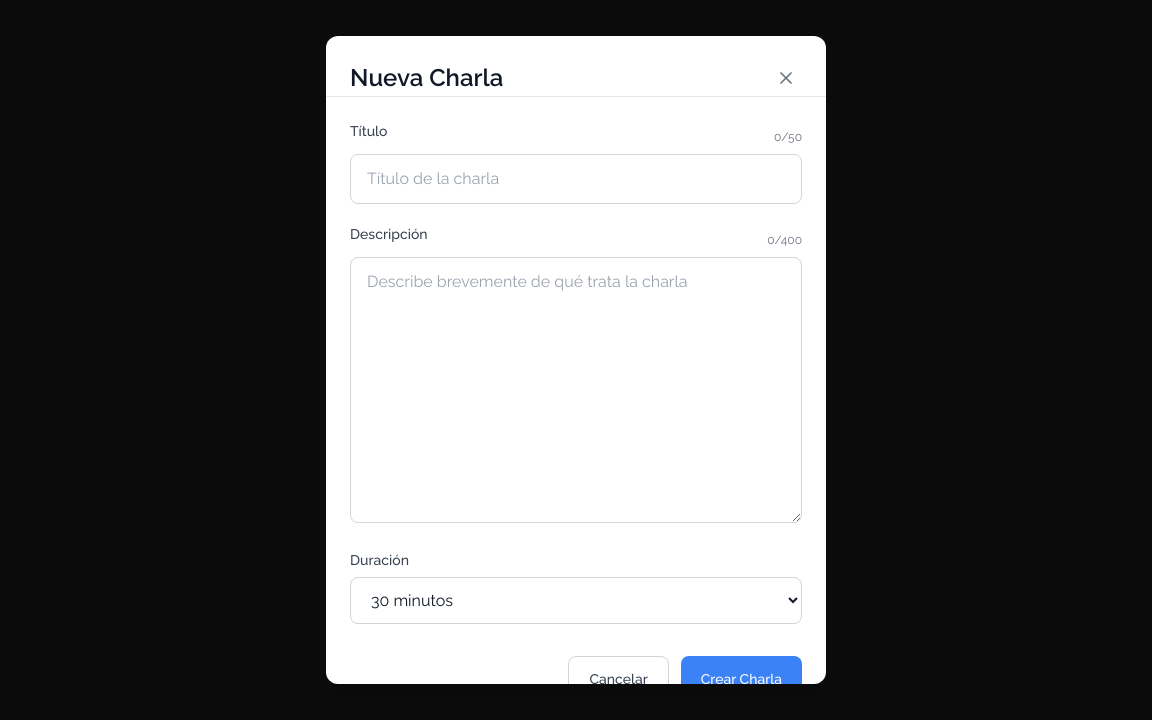
Test: CreateTalkModal › debería mostrar error cuando el envío falla
Type "Test Title" into the field labelled "Título".
click(576, 179); type("Test Title")  # box [350,154,802,204]
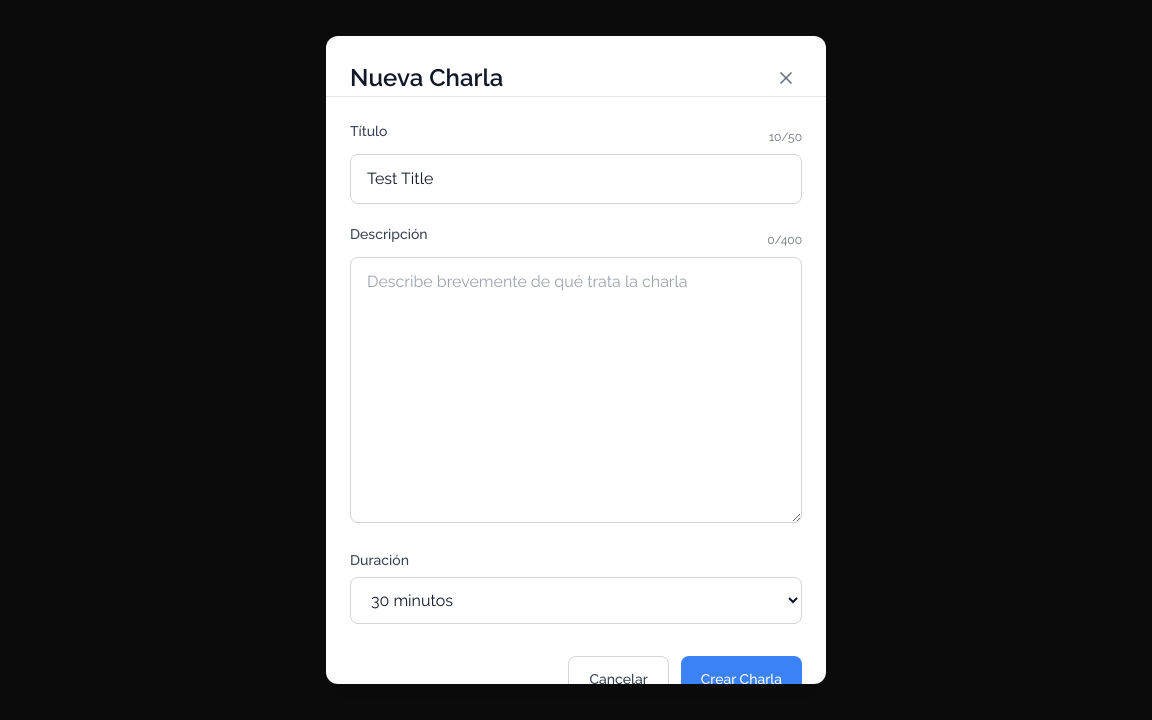
Type "Test Description" into the text box labelled "Descripción".
click(576, 390); type("Test Description")  # box [350,257,802,523]
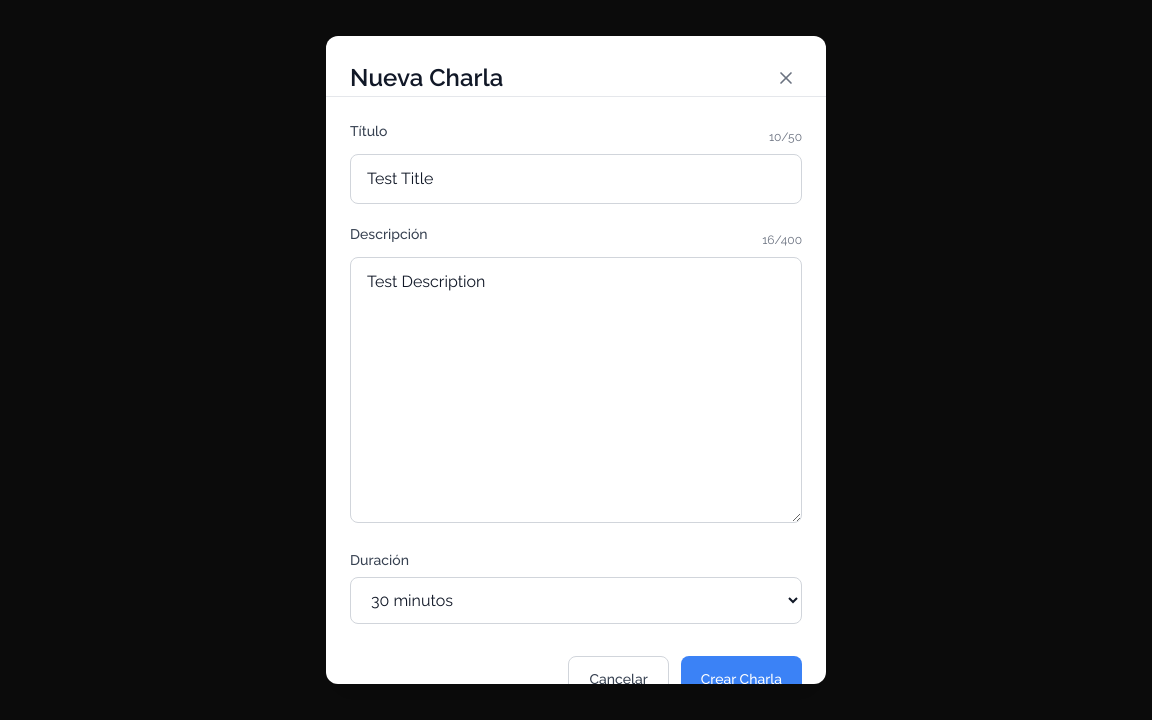
Click the button "Crear Charla".
click(741, 680)  # box [681,656,802,703]
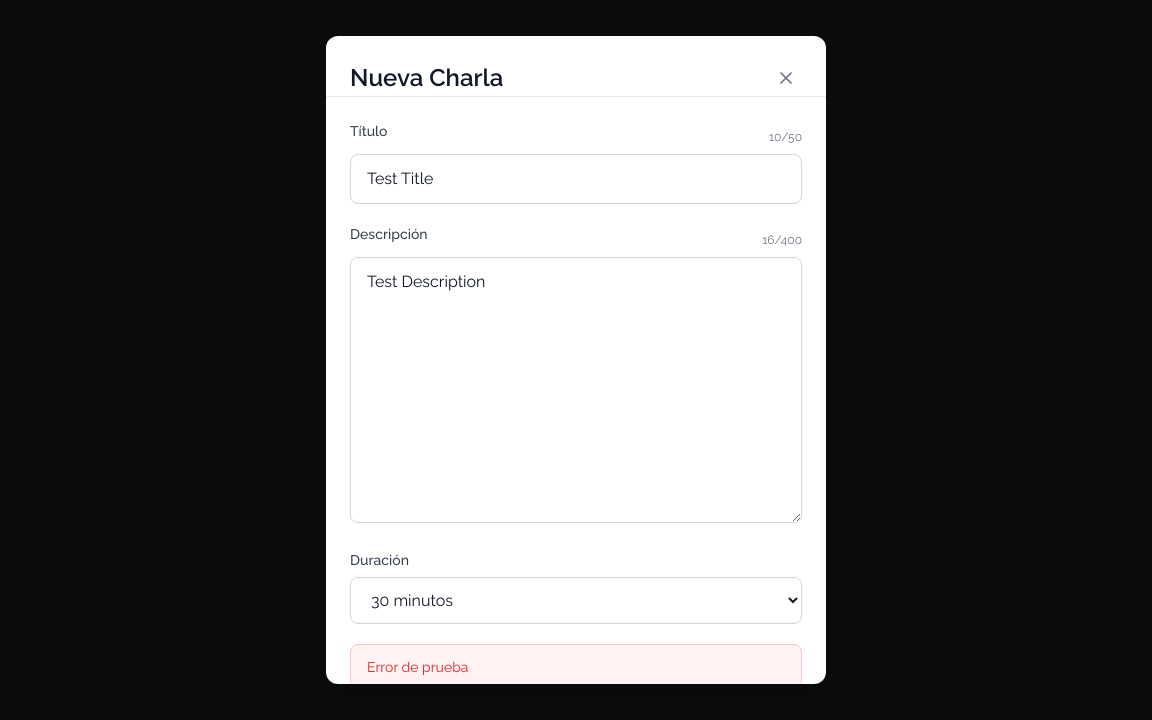
Now the text "Error de prueba" is shown, box [350,644,802,684]
